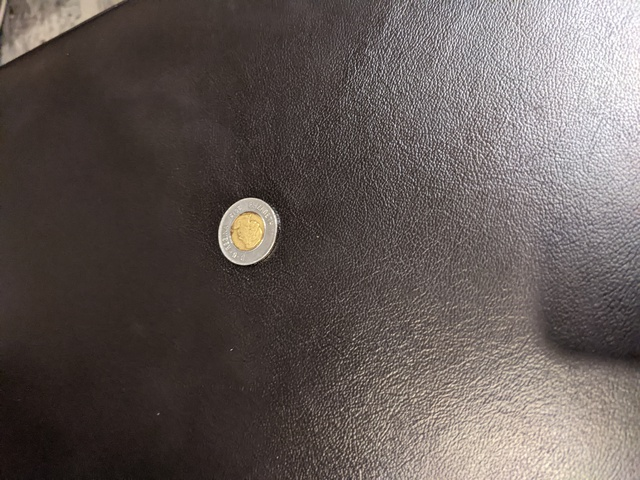twonie: (209, 193, 289, 274)
